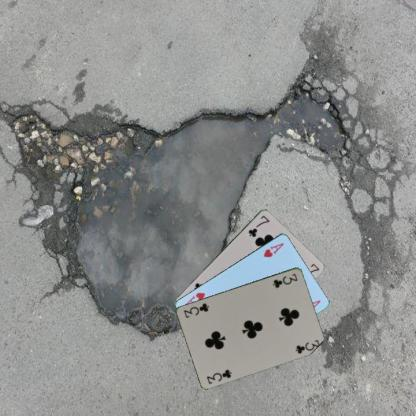3c: (204, 366, 233, 385), (270, 271, 299, 289)
7c: (246, 213, 271, 238)
Ah: (260, 240, 285, 258)
